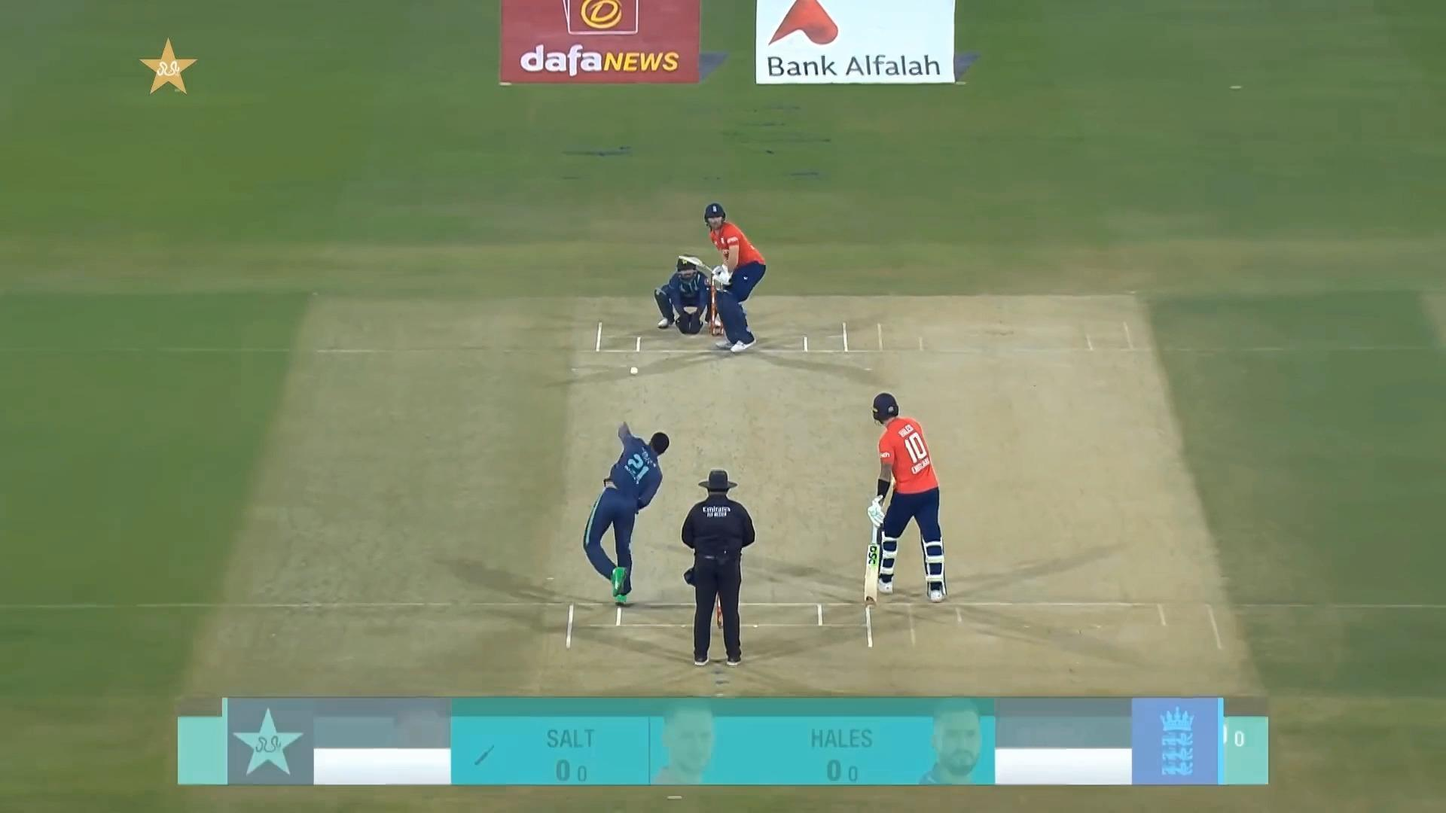BM 1: (677, 201, 767, 354)
BO: (581, 417, 674, 609)
